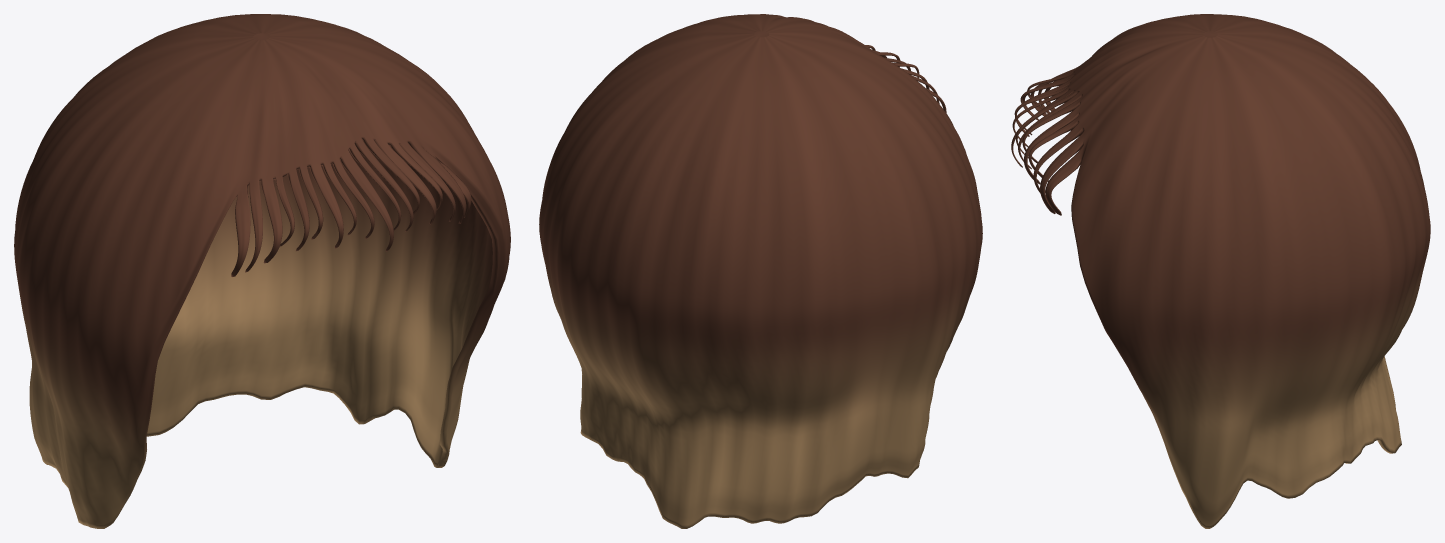
The model's file is side-sweep-none-ombre.glb.
3 renders of one model, left to right at view 1: azimuth 30°, elevation 25°; view 2: azimuth 150°, elevation 25°; view 3: azimuth 270°, elevation 25°, orthographic. The views are drawn at different scales.
Parts seen in each view (by area): view 1: Wispy bangs / continuous crown; view 2: Wispy bangs / continuous crown; view 3: Wispy bangs / continuous crown.
Boxes of the visible parts, x1,y1,x2,y2 form: Wispy bangs / continuous crown: (14,14,510,528); Wispy bangs / continuous crown: (539,14,982,528); Wispy bangs / continuous crown: (1011,14,1430,528).
Size of the model in its own units: 0.8388 by 0.8786 by 0.7975.
